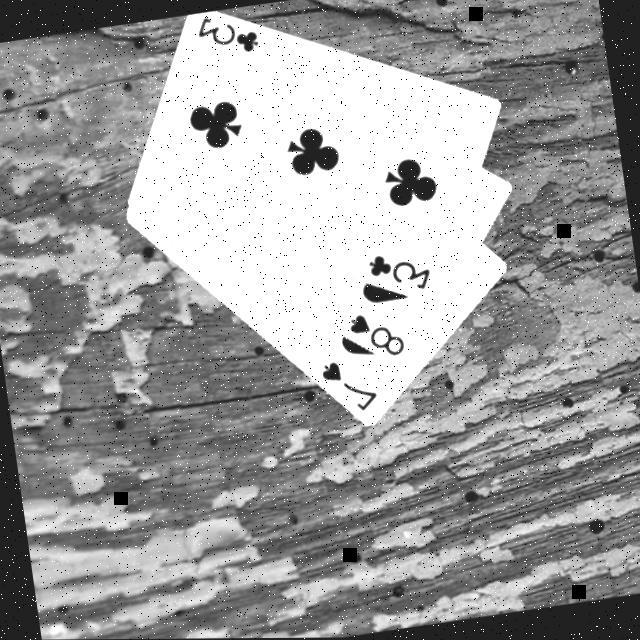3C: (191, 5, 263, 62), (363, 243, 436, 299)
7S: (314, 351, 382, 419)
8S: (342, 303, 409, 365)
